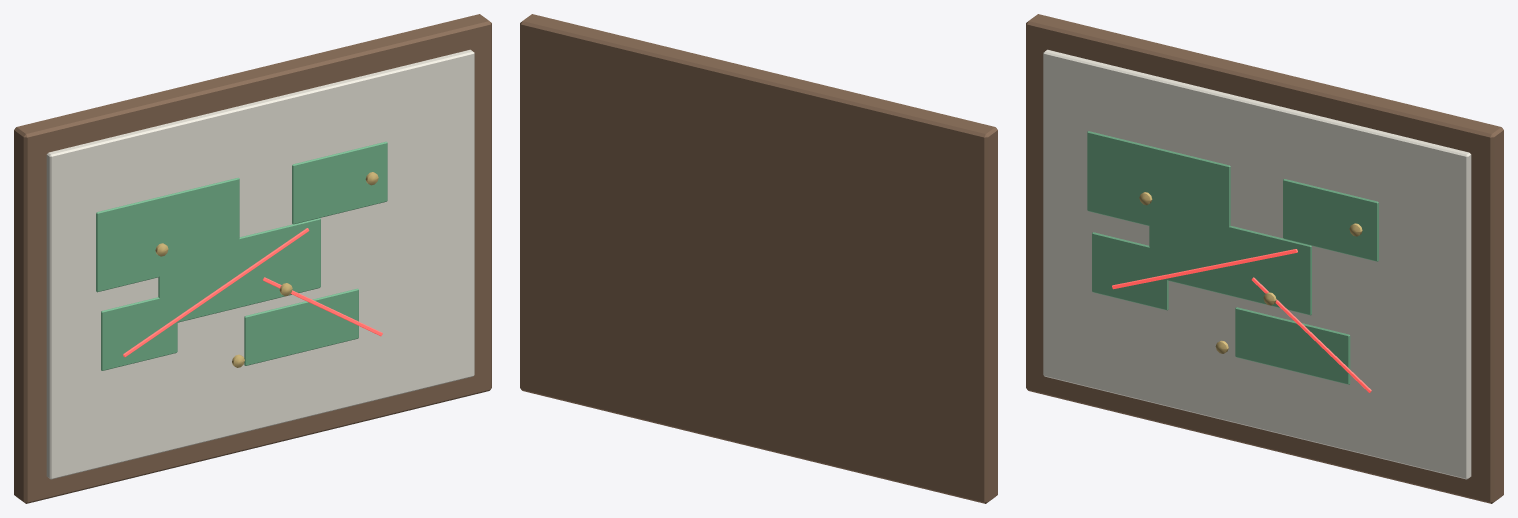
File: escape-room-and-puzzle-venue-map-and-pin-board-d6dbe24d__35793.glb
3 renders of one model, left to right at view 1: azimuth 30°, elevation 25°; view 2: azimuth 150°, elevation 25°; view 3: azimuth 330°, elevation 25°, orthographic.
Parts seen in each view (by area): view 1: map-and-pin-board; view 2: map-and-pin-board; view 3: map-and-pin-board.
Part boxes in pixels (x1,y1,x2,y2): map-and-pin-board: (14, 14, 491, 503); map-and-pin-board: (520, 14, 997, 503); map-and-pin-board: (1026, 14, 1503, 503).
Size of the model in its own units: 0.98 by 0.74 by 0.0805.
